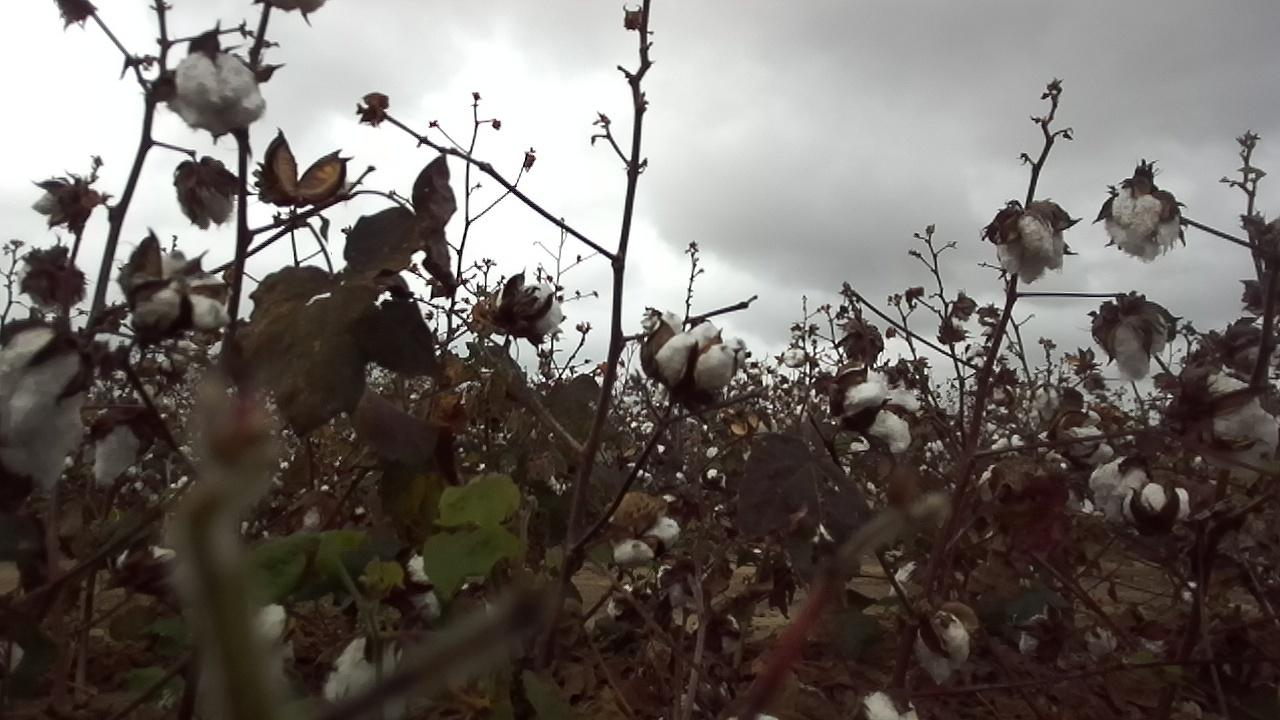cotton_ready: (0, 324, 89, 491), (324, 630, 412, 720), (125, 254, 225, 333), (172, 47, 265, 130), (848, 367, 919, 453), (652, 310, 730, 383), (1201, 372, 1280, 442), (1109, 189, 1184, 262), (996, 212, 1065, 285), (91, 405, 149, 483), (1089, 454, 1155, 522), (1108, 310, 1172, 378), (917, 612, 969, 688), (495, 279, 562, 333), (257, 602, 304, 678), (616, 515, 679, 565), (1130, 482, 1192, 525), (405, 552, 440, 626), (859, 689, 922, 720)
